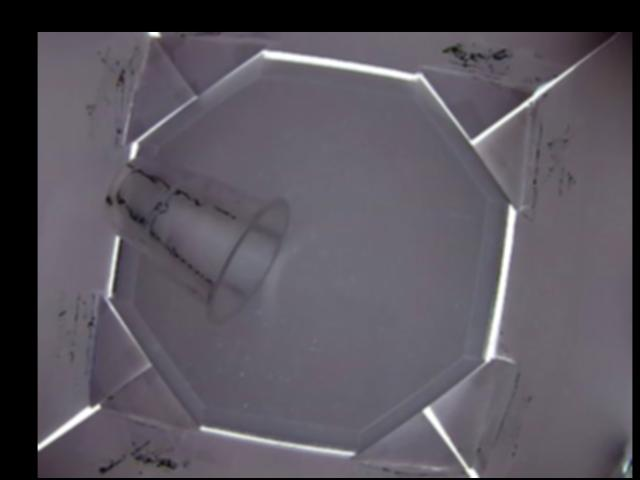Cup: (103, 153, 292, 320)
